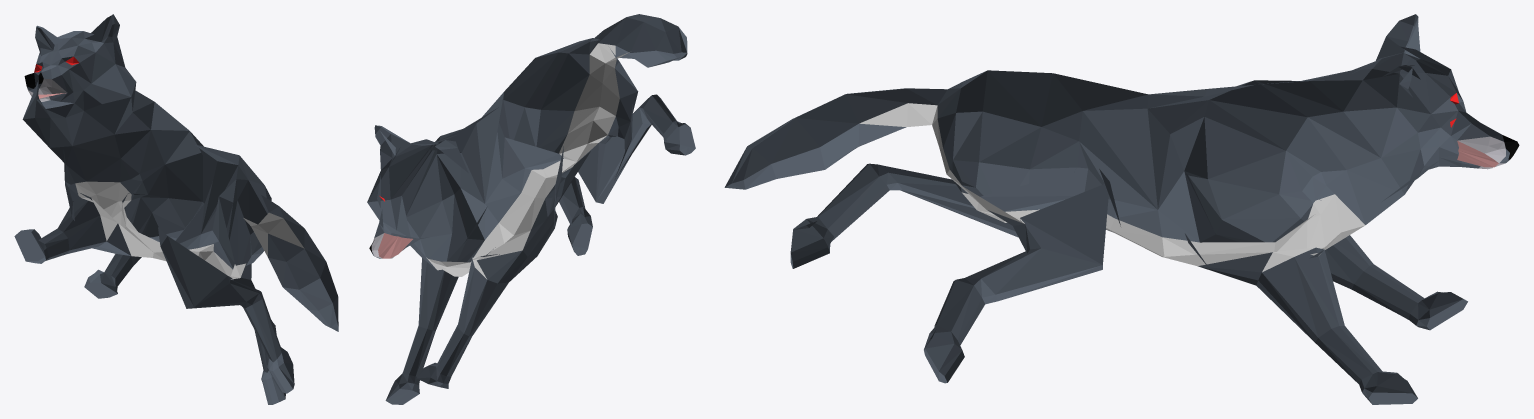
Rendered from wolf_fixed.glb.
3 views of the same model, side by side, from view 1: azimuth 30°, elevation 25°; view 2: azimuth 150°, elevation 25°; view 3: azimuth 270°, elevation 25° (orthographic). The views are drawn at different scales.
Parts seen in each view (by area): view 1: wolf_colorMap; view 2: wolf_colorMap; view 3: wolf_colorMap.
Boxes of the visible parts, x1,y1,x2,y2 form: wolf_colorMap: (14,14,338,404); wolf_colorMap: (367,14,695,404); wolf_colorMap: (724,14,1519,404).
Size of the model in its own units: 30.68 by 70.77 by 146.
